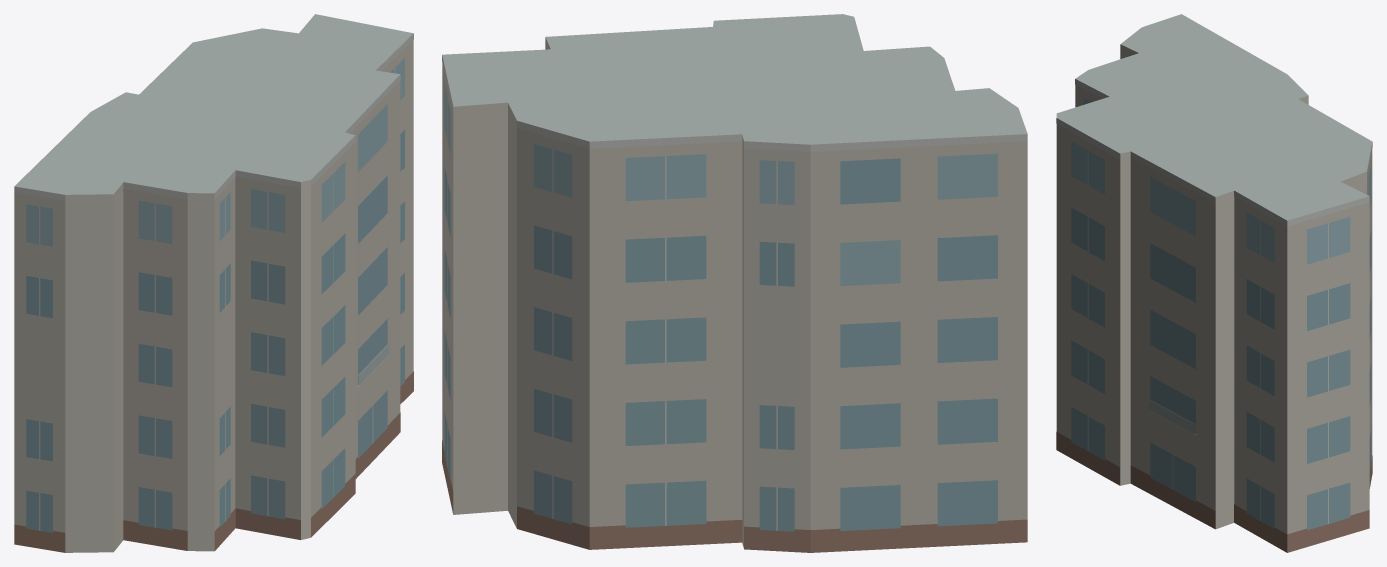
Rendered from survey-upis-32534201.glb.
The picture shows the model from 3 angles, left to right: view 1: azimuth 30°, elevation 25°; view 2: azimuth 150°, elevation 25°; view 3: azimuth 270°, elevation 25°; orthographic projection. The views are drawn at different scales.
Visible parts, largest first — view 1: survey-upis-32534201.tmp; view 2: survey-upis-32534201.tmp; view 3: survey-upis-32534201.tmp.
Part boxes in pixels (x1,y1,x2,y2): survey-upis-32534201.tmp: (14, 14, 413, 552); survey-upis-32534201.tmp: (442, 14, 1027, 552); survey-upis-32534201.tmp: (1056, 14, 1372, 552).
Size of the model in its own units: 18.49 by 13.85 by 11.94.
